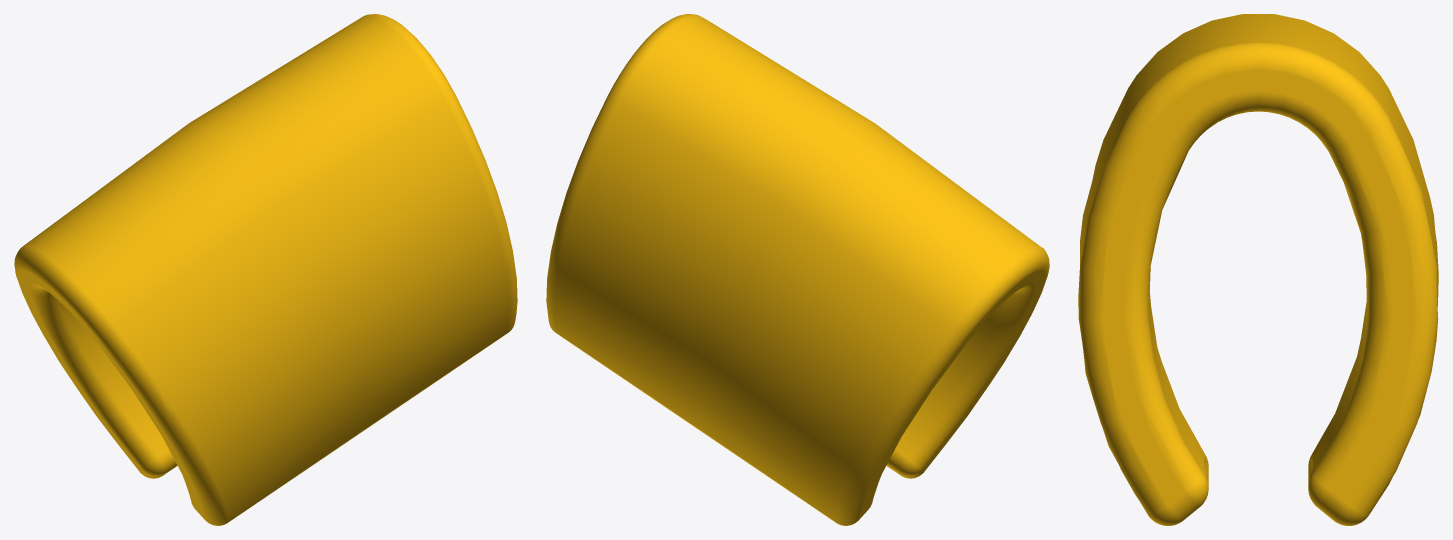
The model's file is _60355K291_Steel_Ball_Bearing_21.gltf.
3 renders of one model, left to right at view 1: azimuth 30°, elevation 25°; view 2: azimuth 150°, elevation 25°; view 3: azimuth 270°, elevation 25°, orthographic. The views are drawn at different scales.
Visible parts, largest first — view 1: mesh52540, mesh52537, mesh52538, mesh52543, mesh52544, mesh52539, mesh52534, mesh52546, mesh52527; view 2: mesh52528, mesh52537, mesh52533, mesh52552, mesh52558, mesh52534, mesh52524, mesh52546, mesh52527; view 3: mesh52549, mesh52539, mesh52524, mesh52536, mesh52555, mesh52527, mesh52537, mesh52548, mesh52528, mesh52558, mesh52544, mesh52540 (+4 smaller).
Boxes of the visible parts, box(x1,y1,x2,y2) form: mesh52540: box(115, 103, 509, 520); mesh52537: box(23, 16, 445, 326); mesh52538: box(98, 327, 229, 524); mesh52543: box(29, 291, 157, 469); mesh52544: box(56, 298, 168, 456); mesh52539: box(446, 96, 517, 331); mesh52534: box(14, 246, 114, 338); mesh52546: box(18, 270, 204, 518); mesh52527: box(364, 14, 455, 102); mesh52528: box(554, 103, 948, 520); mesh52537: box(618, 16, 1039, 326); mesh52533: box(834, 327, 965, 524); mesh52552: box(906, 291, 1034, 469); mesh52558: box(895, 298, 1007, 456); mesh52534: box(949, 246, 1049, 338); mesh52524: box(546, 96, 617, 331); mesh52546: box(859, 270, 1045, 518); mesh52527: box(608, 14, 702, 102); mesh52549: box(1103, 70, 1413, 505); mesh52539: box(1078, 117, 1167, 515); mesh52524: box(1349, 117, 1438, 515); mesh52536: box(1313, 143, 1392, 491); mesh52555: box(1124, 143, 1203, 491); mesh52527: box(1128, 42, 1388, 132); mesh52537: box(1128, 14, 1388, 115); mesh52548: box(1167, 91, 1349, 151); mesh52528: box(1389, 89, 1438, 305); mesh52558: box(1149, 267, 1204, 473); mesh52544: box(1312, 274, 1368, 473); mesh52540: box(1080, 89, 1127, 265).
Size of the model in its own units: 0.00292 by 0.0027 by 0.00147.
